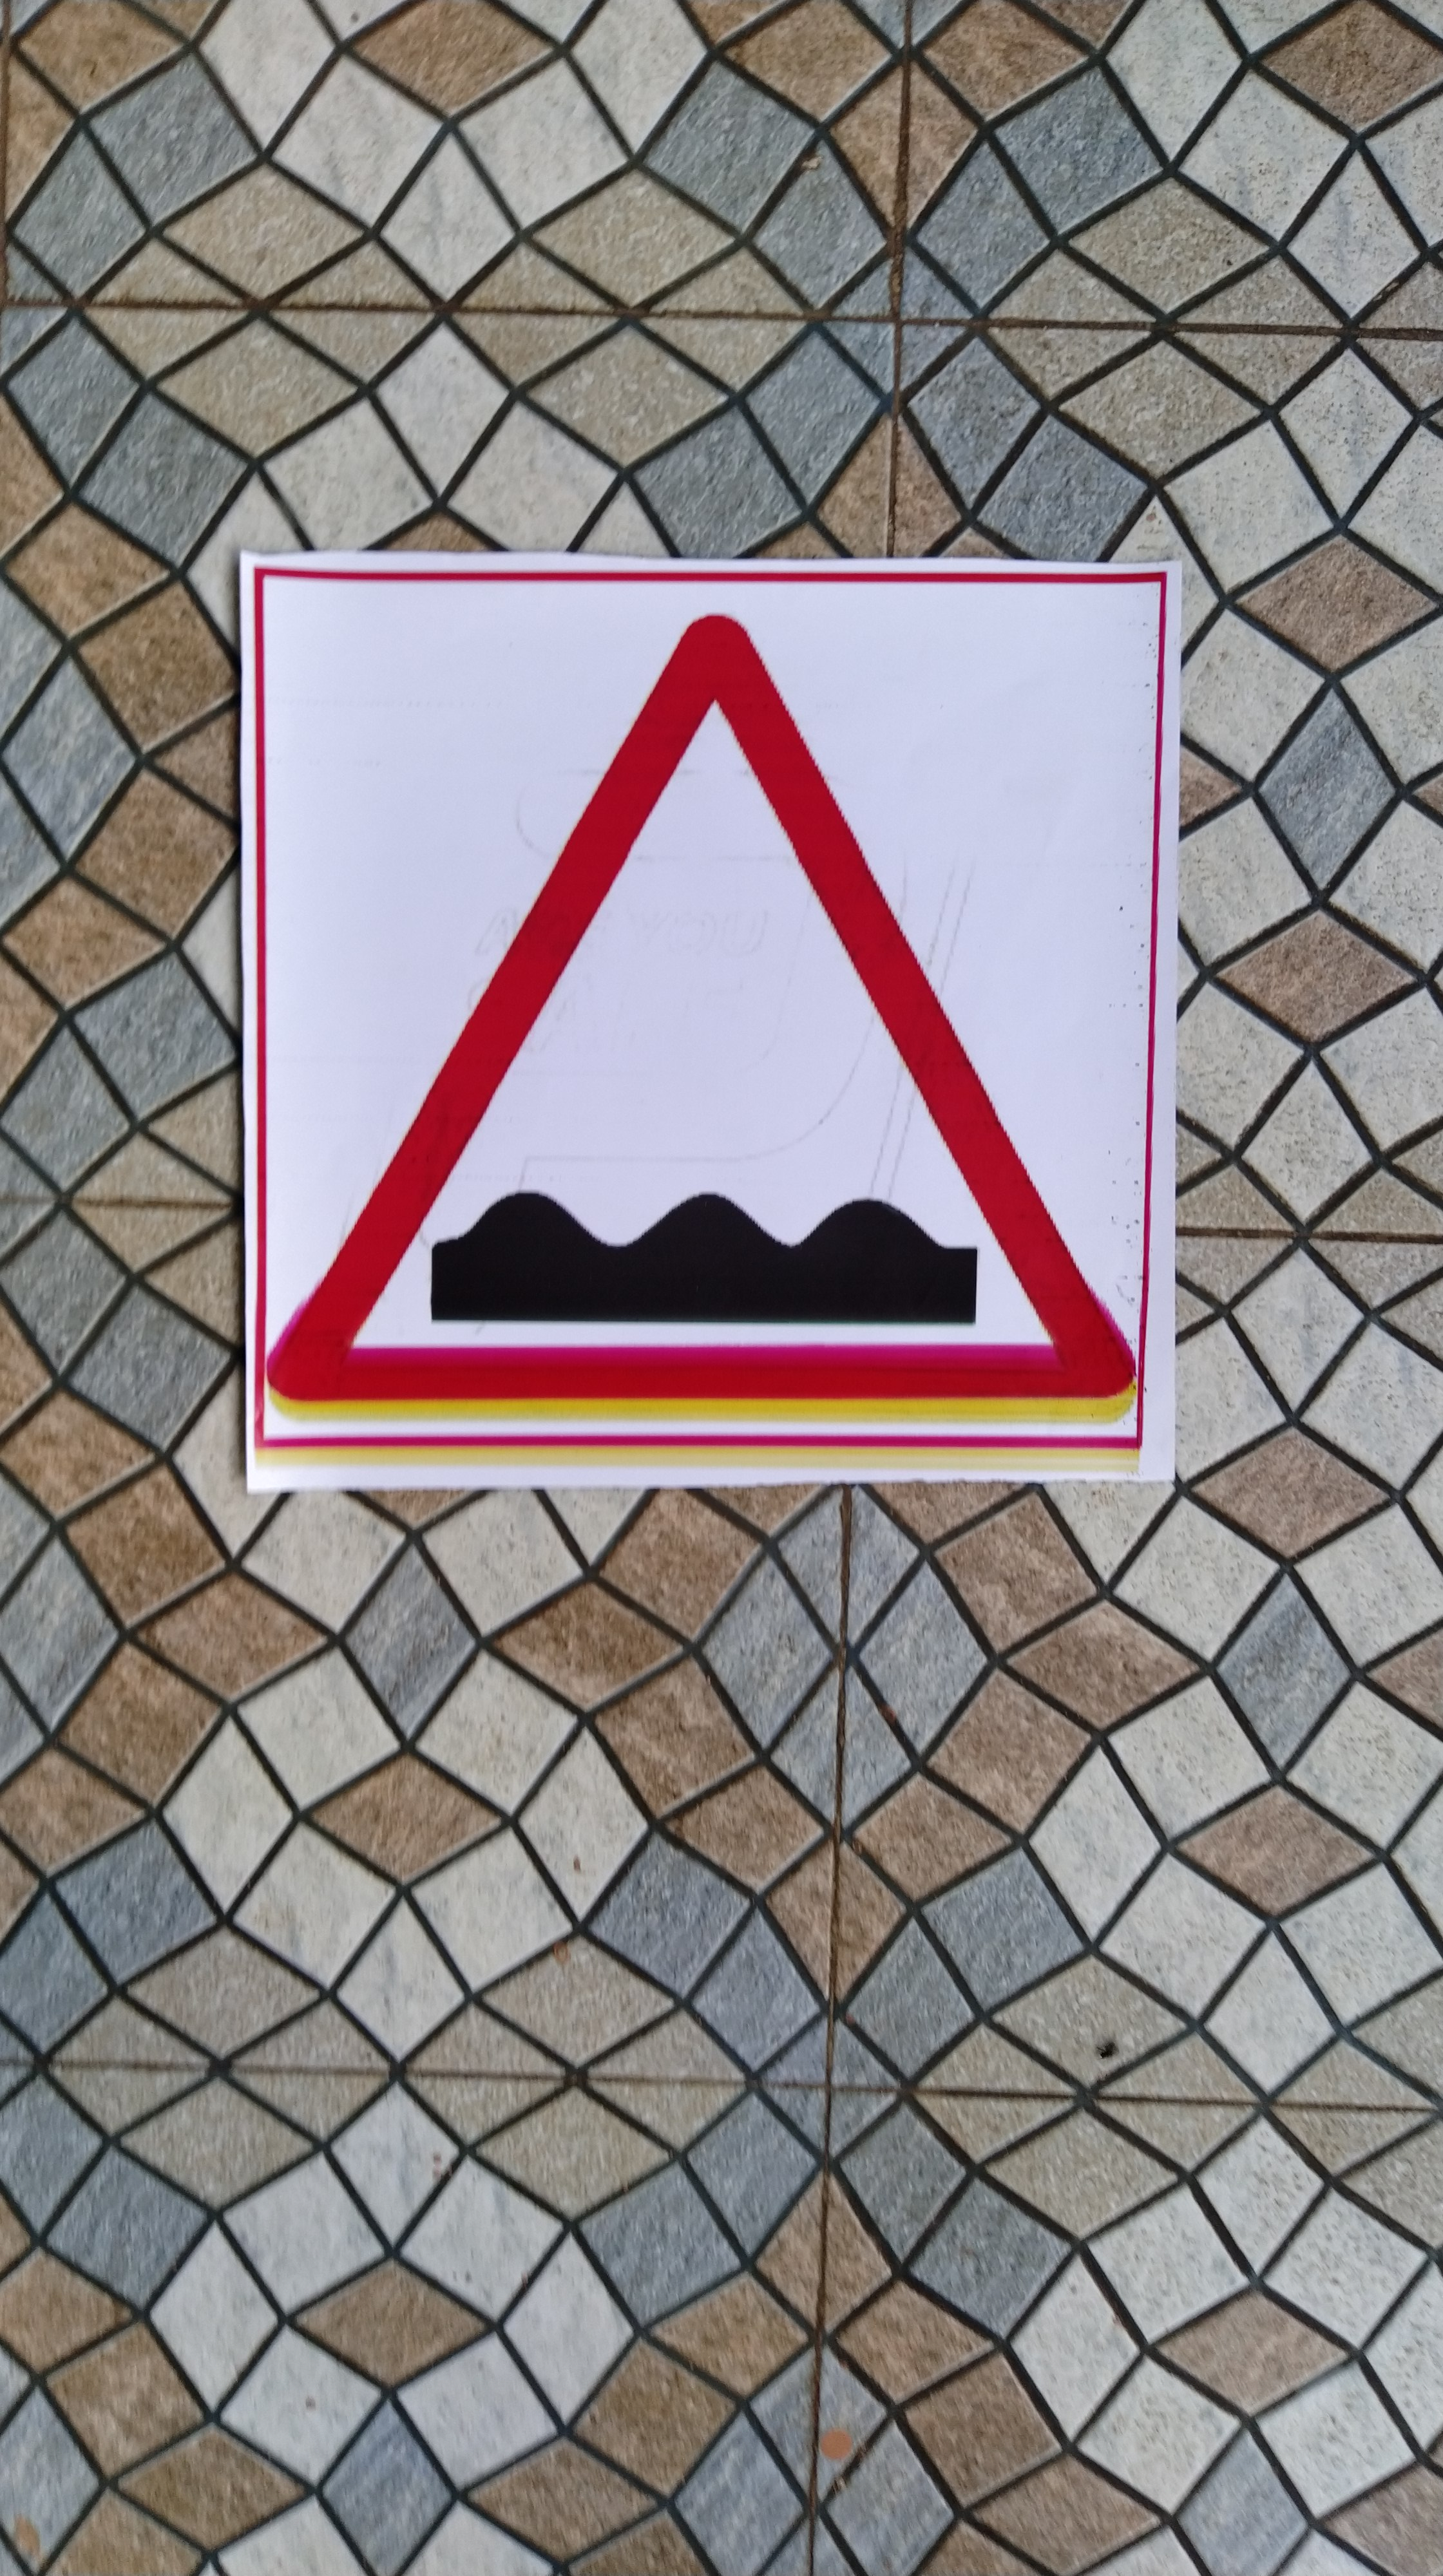speed breaker: (241, 557, 1170, 1486)
